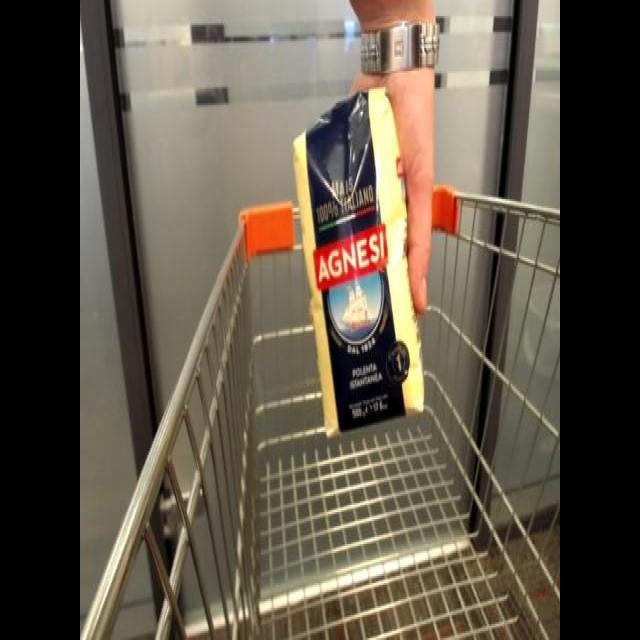Agnesi Polenta: (278, 82, 426, 437)
